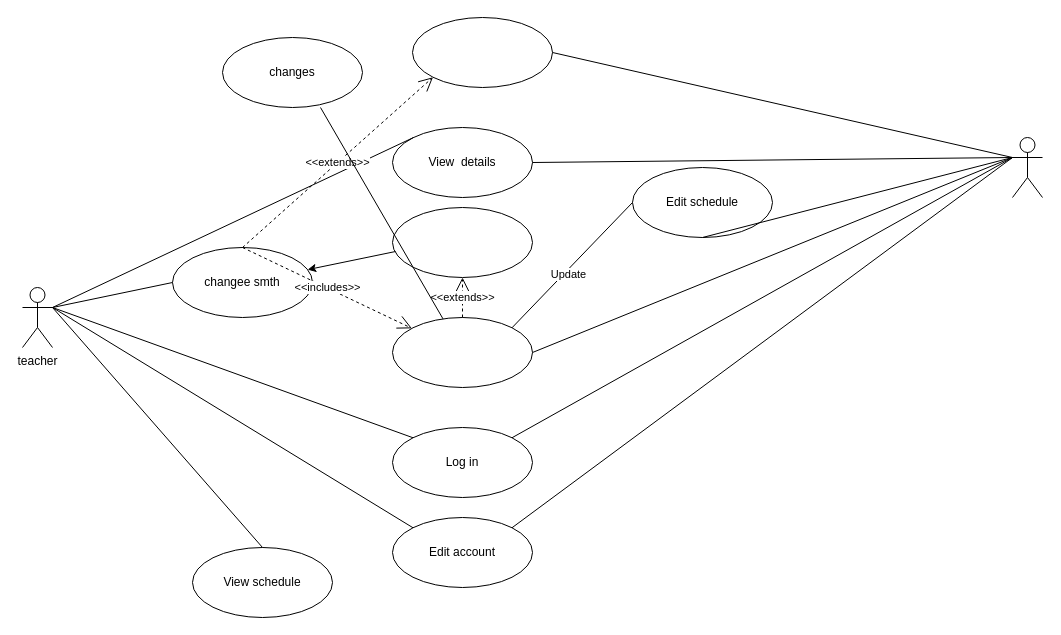
The diagram is 1061 pixels wide and 635 high, and some of its shapes have lost their labels. Here are the shapes that lost their labels. From the top down, the box of each, then its label:
(412, 16, 552, 88): Communicate
(1012, 136, 1042, 198): admin
(392, 206, 532, 278): Add searching criteria
(392, 316, 532, 388): system
